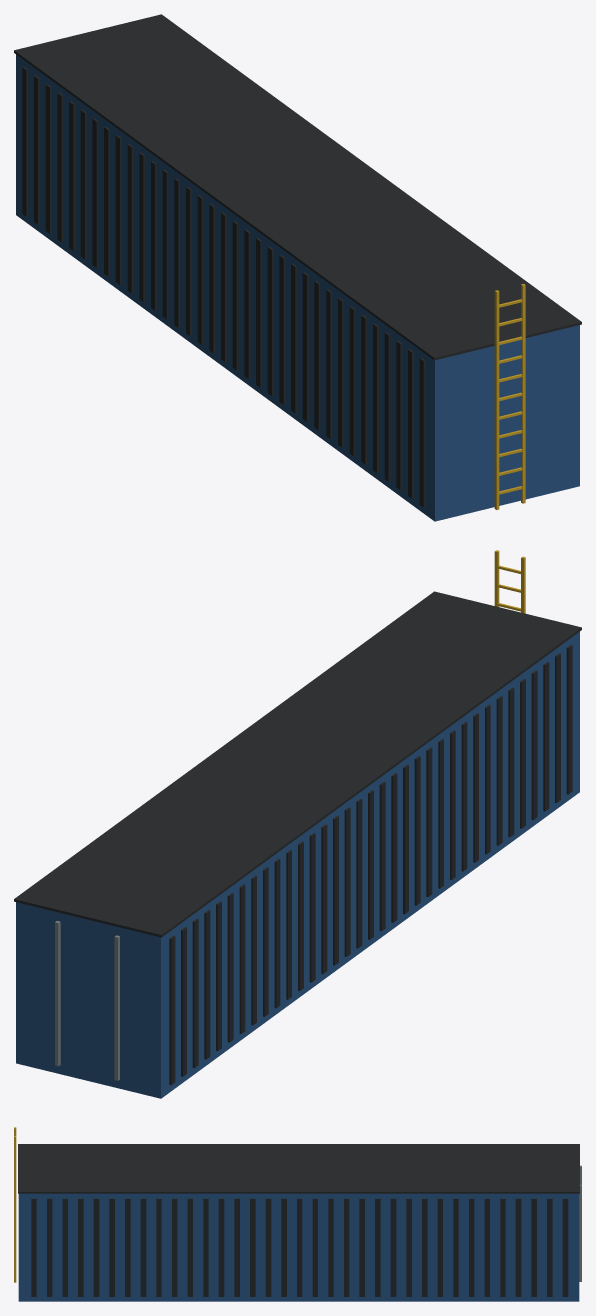
The model's file is container_40ft.glb.
The picture shows the model from 3 angles, top to bottom: view 1: azimuth 30°, elevation 25°; view 2: azimuth 150°, elevation 25°; view 3: azimuth 270°, elevation 25°; orthographic projection. The views are drawn at different scales.
Parts seen in each view (by area): view 1: container_40ft; view 2: container_40ft; view 3: container_40ft.
Boxes of the visible parts, x1=… form: container_40ft: x1=14, y1=14, x2=581, y2=521; container_40ft: x1=14, y1=550, x2=581, y2=1098; container_40ft: x1=14, y1=1127, x2=581, y2=1301.
Bounding box in the file's own units: 2.5 × 3.5 × 12.36.
